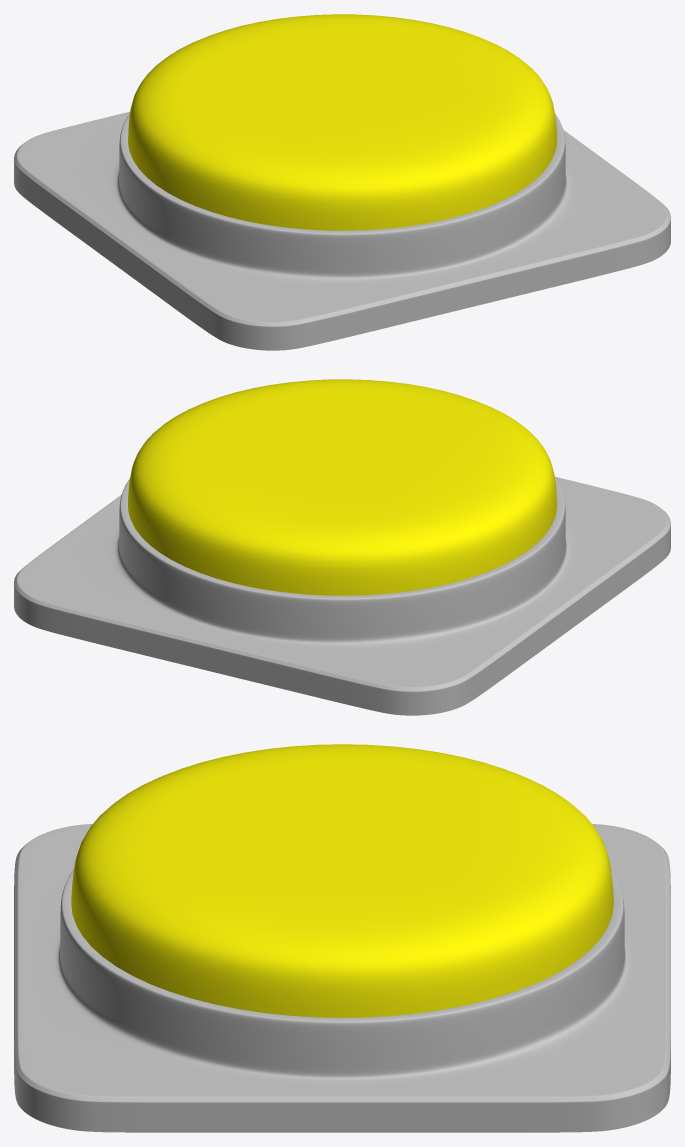
File: knap.fbx
3 views of the same model, one above another, from view 1: azimuth 30°, elevation 25°; view 2: azimuth 150°, elevation 25°; view 3: azimuth 270°, elevation 25° (orthographic). The views are drawn at different scales.
Visible parts, largest first — view 1: button2, button_1; view 2: button2, button_1; view 3: button2, button_1.
Part boxes in pixels (<box>): button2: <box>128,14,556,230</box>; button_1: <box>14,111,670,350</box>; button2: <box>128,379,556,595</box>; button_1: <box>14,476,670,715</box>; button2: <box>71,744,613,1017</box>; button_1: <box>14,824,670,1132</box>.
Size of the model in its own units: 2 by 2 by 0.5131.
